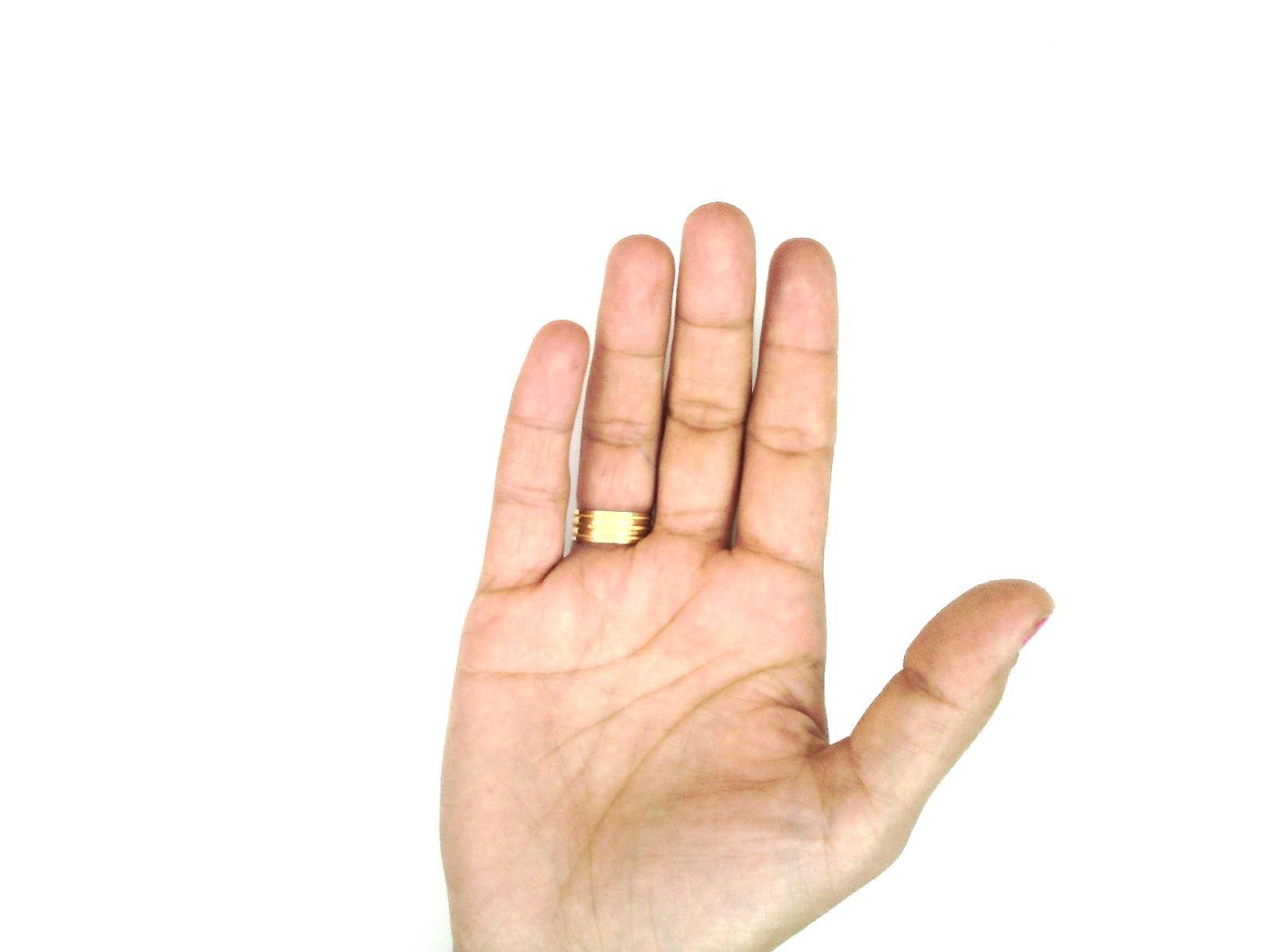open_palm: (435, 201, 1056, 952)
